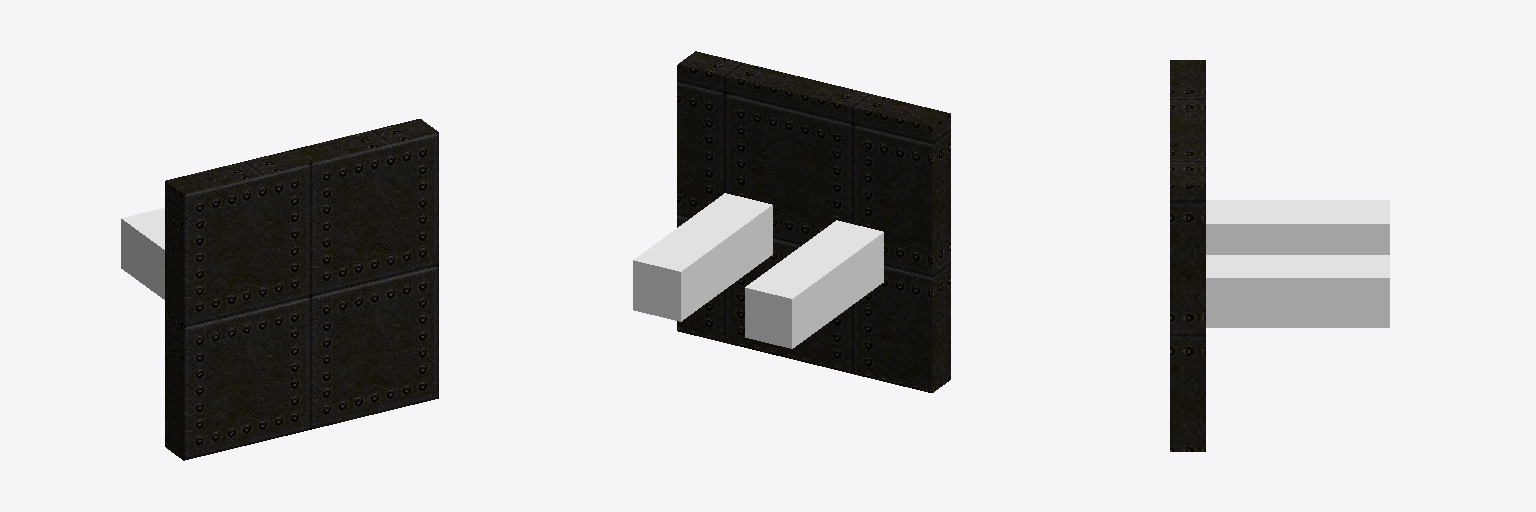
3 renders of one model, left to right at view 1: azimuth 30°, elevation 25°; view 2: azimuth 150°, elevation 25°; view 3: azimuth 270°, elevation 25°, orthographic.
Size of the model in its own units: 128 by 128 by 96.
3 materials, 2 textured.